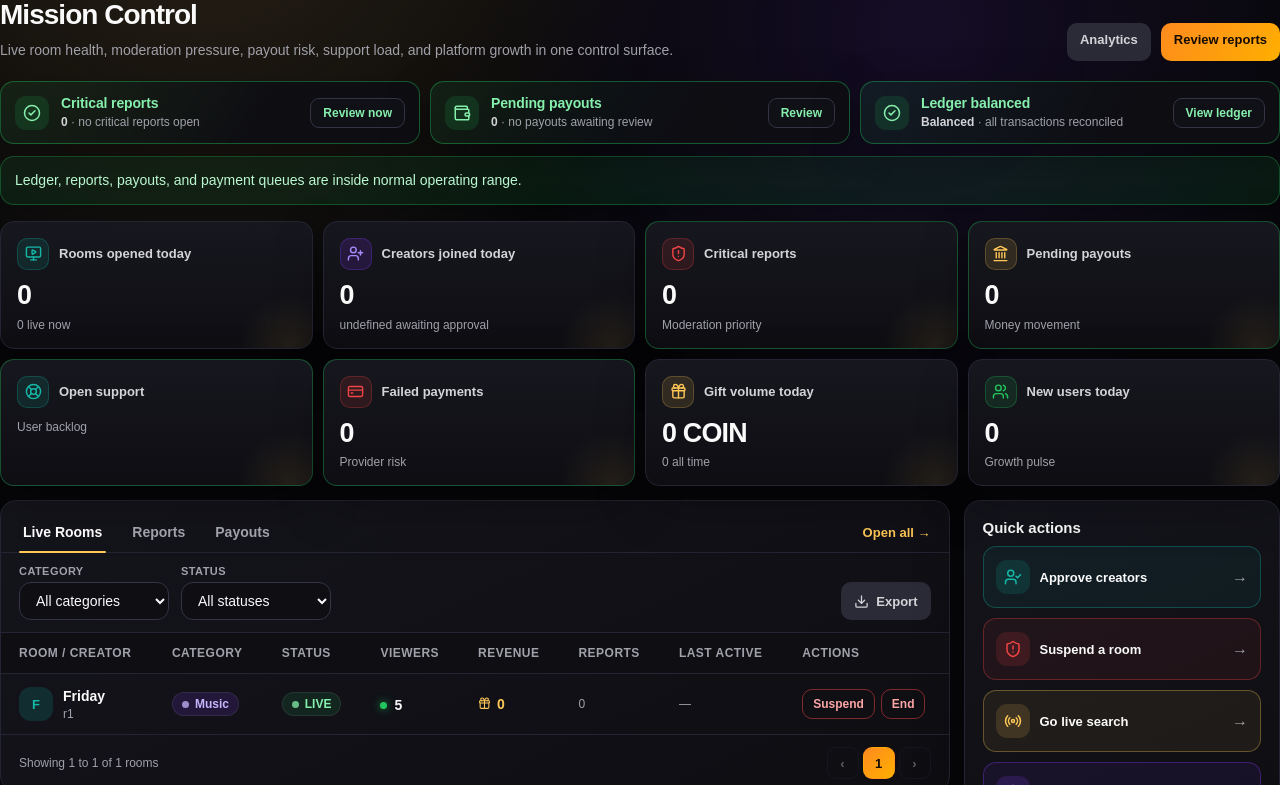
Test case: DashboardPage › surfaces a failed row action instead of silently doing nothing
Expected: the text "Friday" is shown, [63,688,105,704]
What coordinates should you click on to do the following:
click the button "End"
I would click on:
 (903, 704)
Its box is [881,689,926,719].
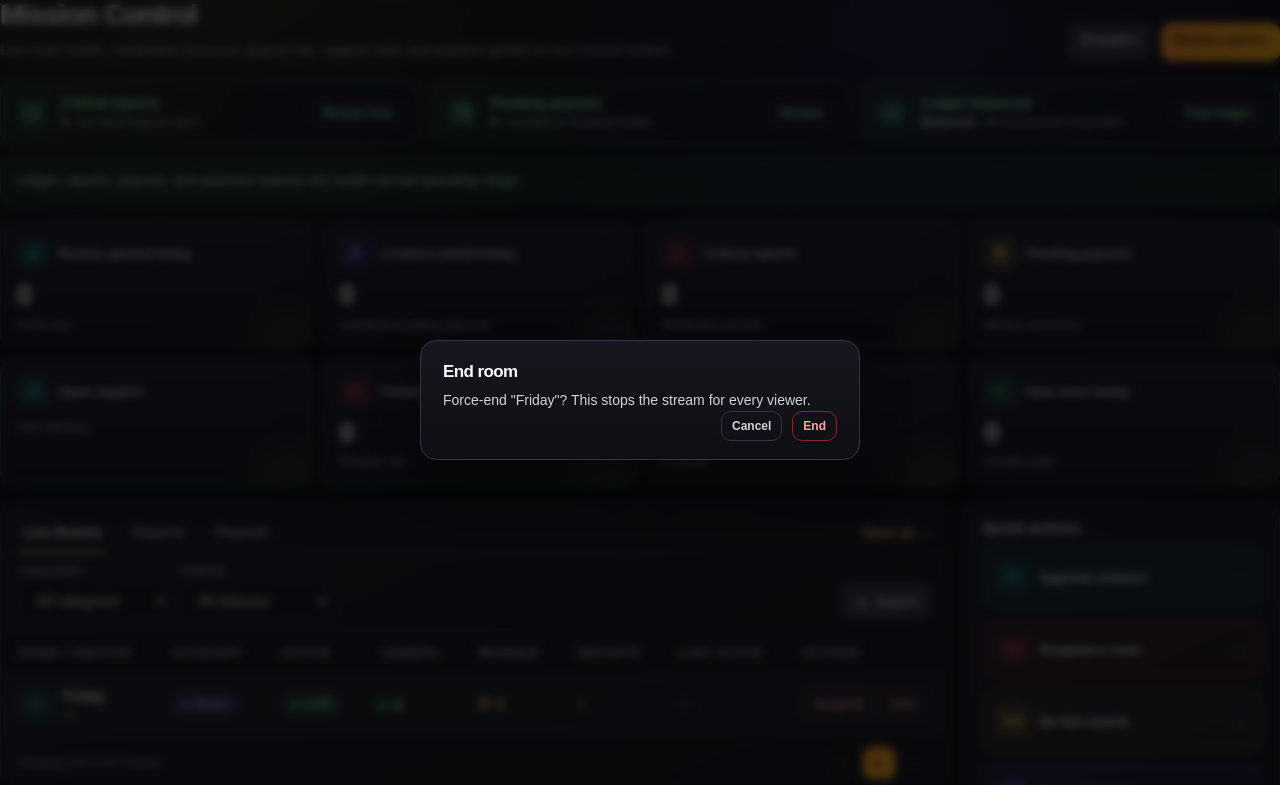
What coordinates should you click on to do the following:
click the 1st button "End"
I would click on:
 (815, 426)
Its box is [792,411,837,441].
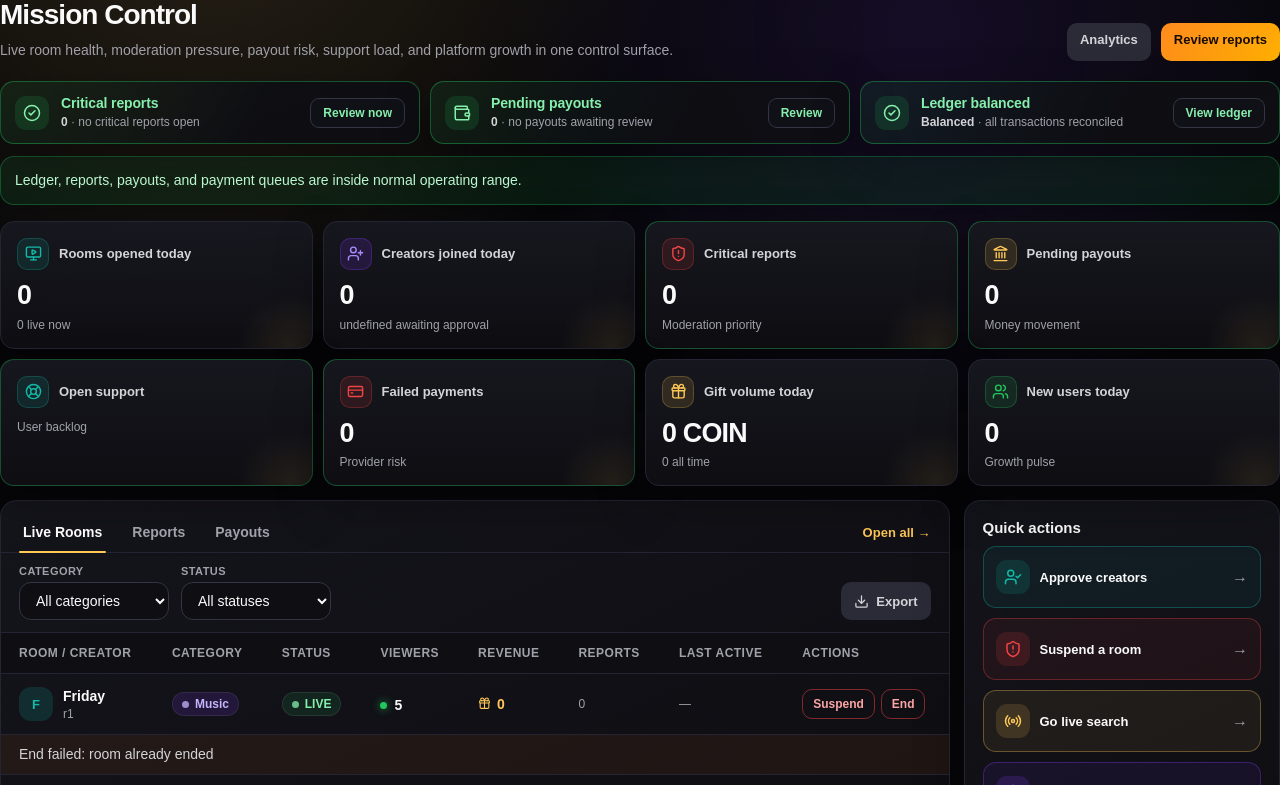
Expected: the message reads "End failed: room already ended", [19,746,214,762]
